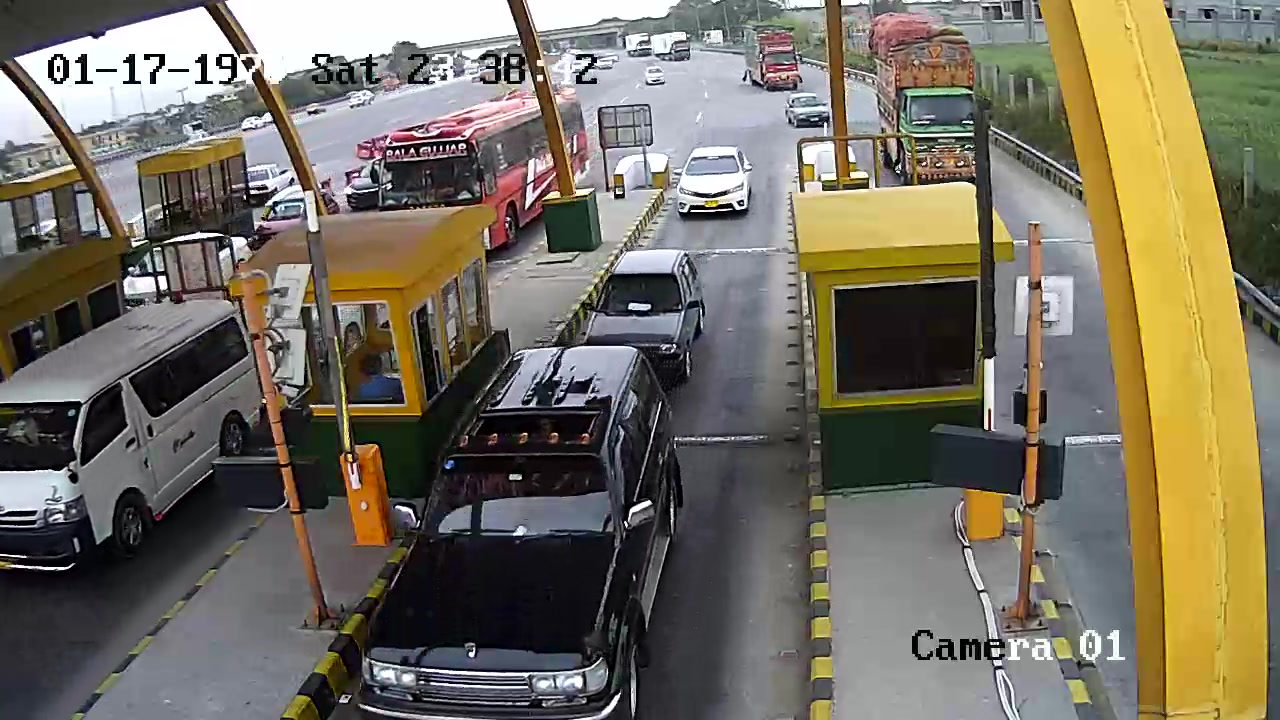F1: (350, 346, 706, 715), (577, 246, 720, 358)
